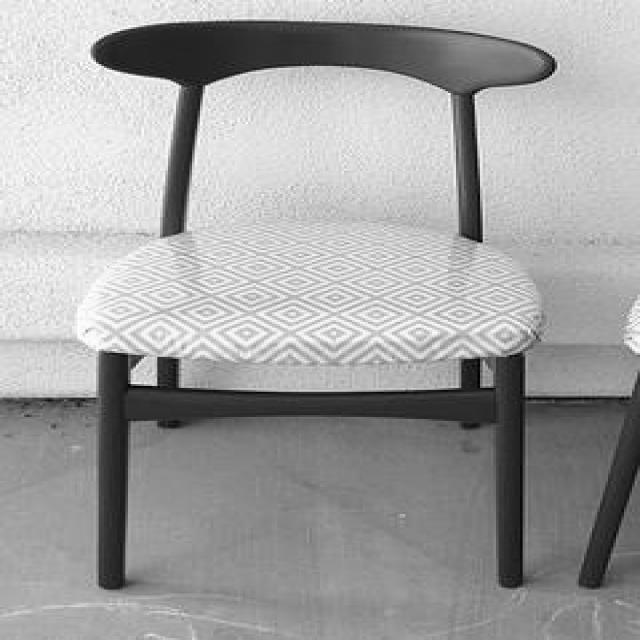chair: (68, 21, 570, 591)
